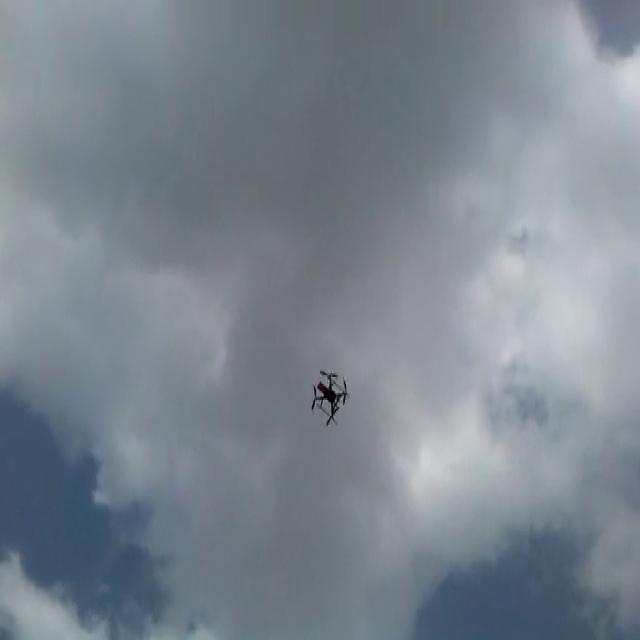drone: (305, 363, 351, 429)
